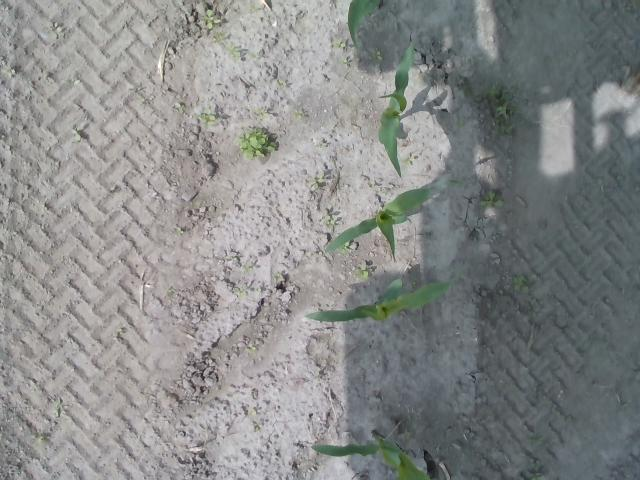Maize: (324, 174, 450, 264), (301, 278, 451, 330), (309, 431, 431, 480), (376, 44, 414, 178), (348, 0, 383, 50)
Weeds: (236, 128, 278, 162), (489, 85, 514, 136), (478, 189, 504, 210), (512, 275, 532, 294), (202, 10, 220, 30), (400, 153, 418, 167), (355, 264, 370, 280), (200, 112, 216, 126), (51, 400, 62, 418), (228, 44, 242, 58), (309, 177, 324, 190), (2, 66, 16, 79), (255, 110, 270, 120), (324, 214, 336, 226), (245, 343, 258, 354), (371, 50, 384, 61), (232, 286, 245, 296), (214, 31, 225, 42), (271, 272, 283, 282), (293, 110, 305, 120), (340, 241, 350, 252), (242, 265, 254, 273), (174, 226, 183, 236), (336, 40, 344, 50), (340, 57, 349, 64)
